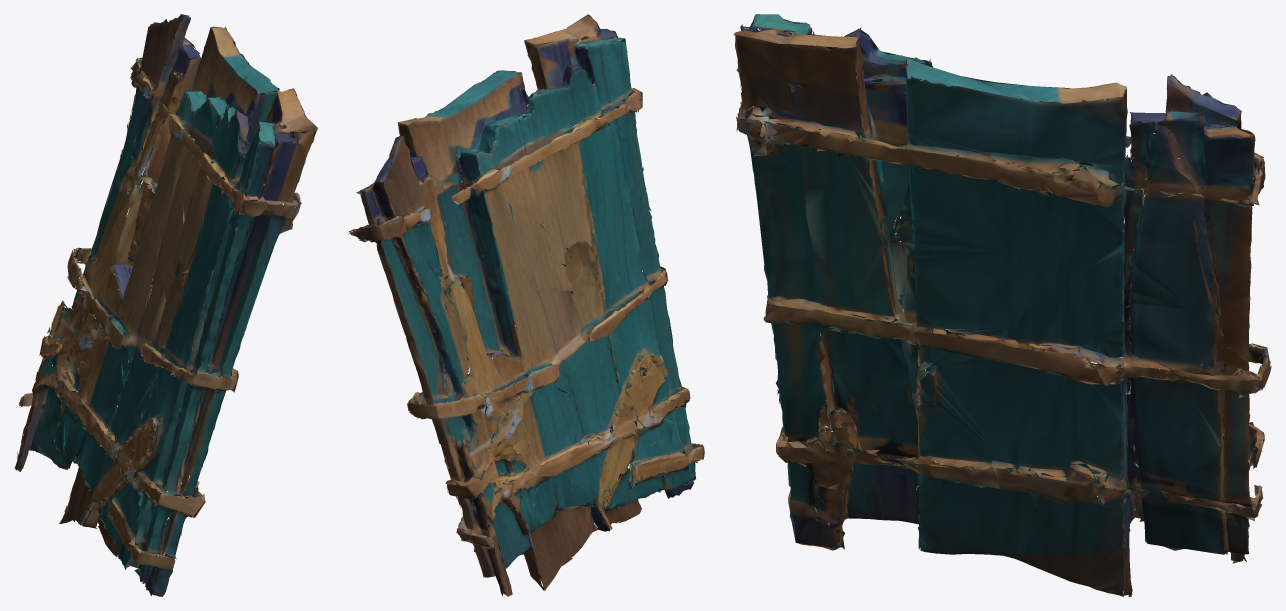
The model's file is WoodPlanks_1.fbx.
The picture shows the model from 3 angles, left to right: view 1: azimuth 30°, elevation 25°; view 2: azimuth 150°, elevation 25°; view 3: azimuth 270°, elevation 25°; orthographic projection. The views are drawn at different scales.
Visible parts, largest first — view 1: WoodPlanks_1; view 2: WoodPlanks_1; view 3: WoodPlanks_1.
Boxes of the visible parts, x1,y1,x2,y2 form: WoodPlanks_1: [14, 14, 317, 596]; WoodPlanks_1: [348, 14, 704, 596]; WoodPlanks_1: [733, 14, 1271, 596].
Bounding box in the file's own units: 19.36 × 42.28 × 32.73.
1 material, 1 textured.
